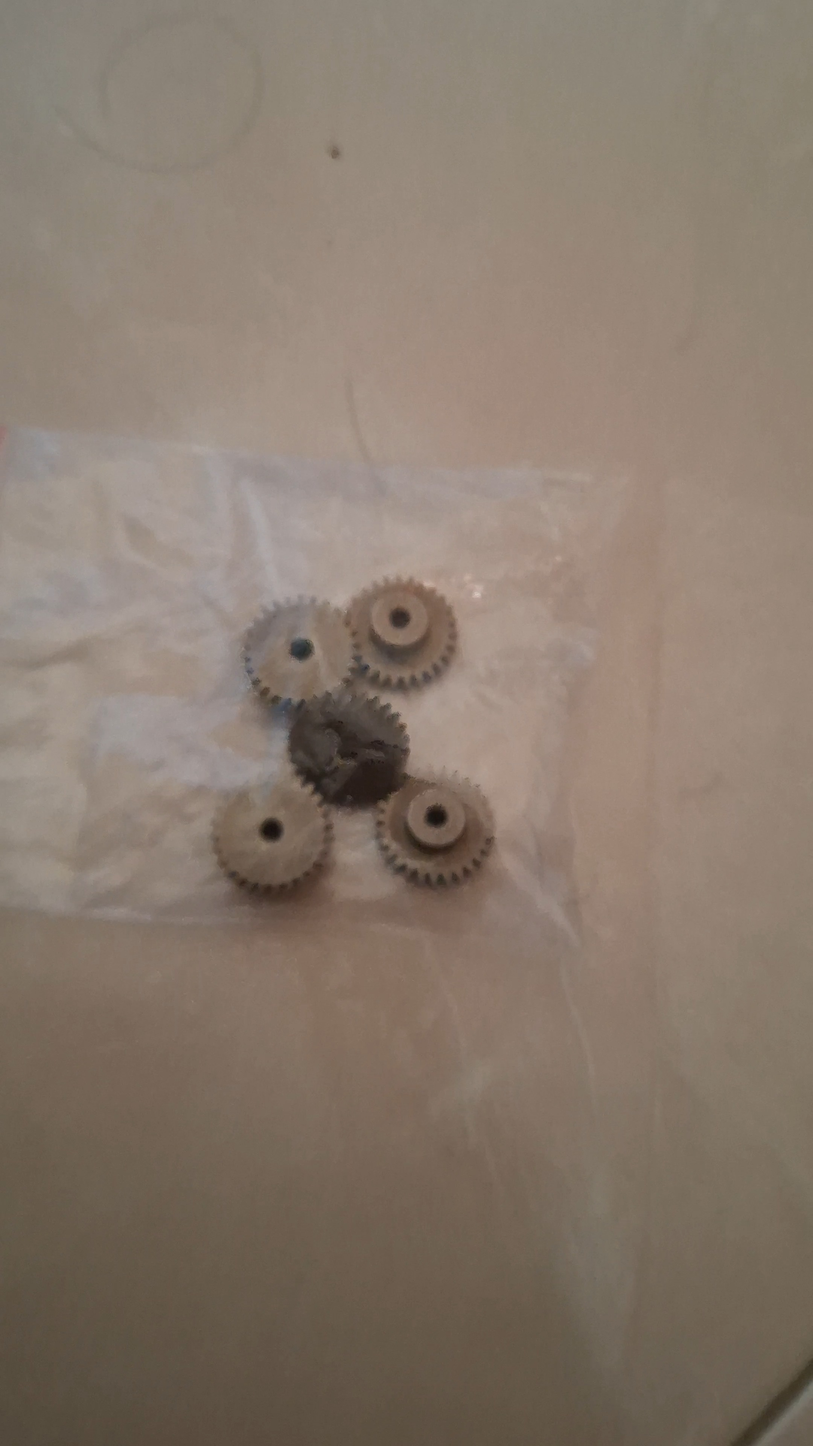spur gear: (213, 772, 330, 891), (289, 688, 408, 805), (376, 774, 494, 885), (348, 579, 456, 687), (243, 598, 353, 703)
